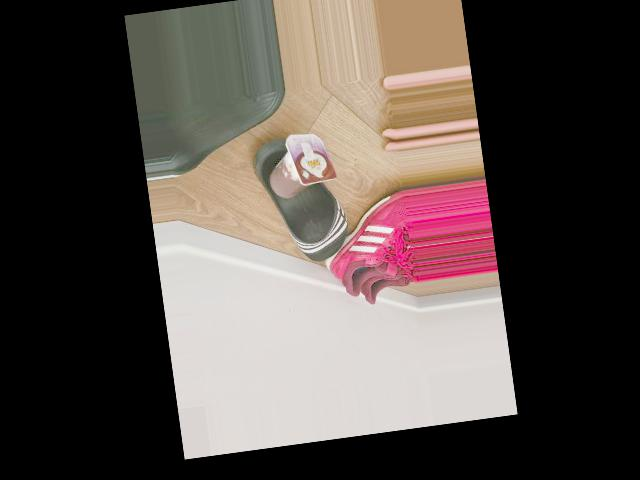milky: (258, 128, 342, 206)
